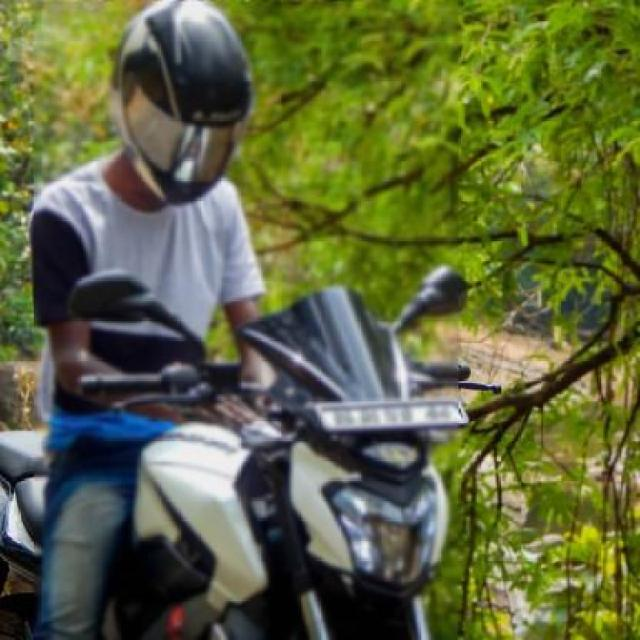helmet: (68, 0, 296, 214)
motorcycle: (0, 0, 472, 640)
